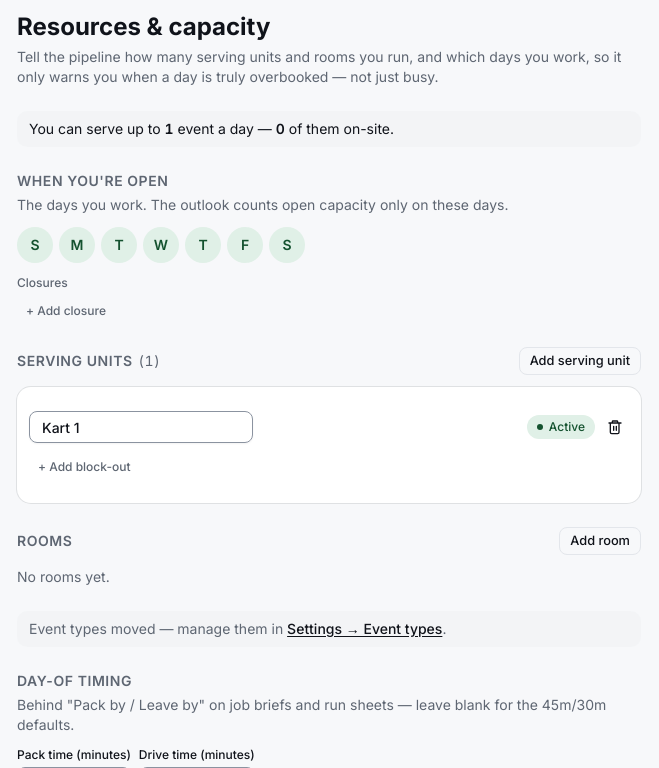
CapacityUnitsClient › creates a serving unit through createCapacityUnit
This screenshot has width=659, height=768.
Click the button "Add serving unit" at x=580, y=361, box [519,347,641,375]
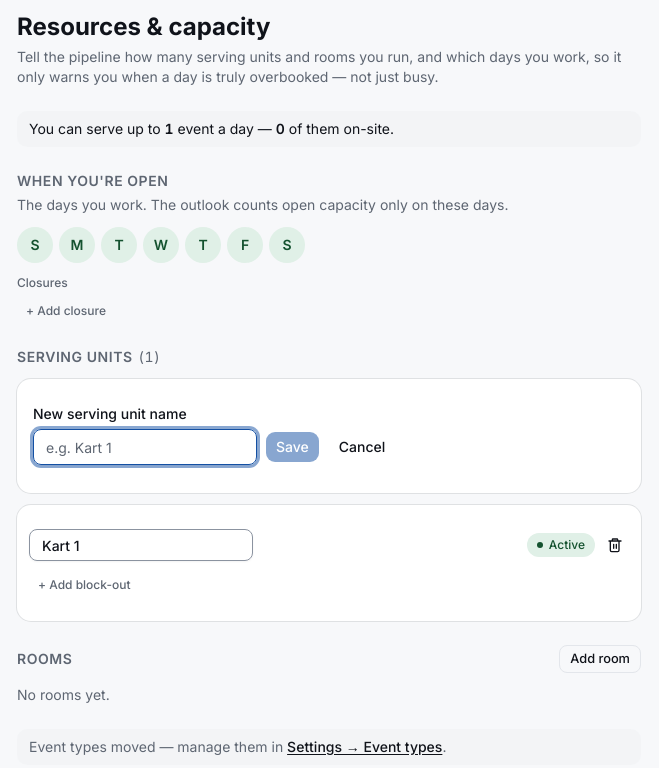
Type "Kart 9" into the field labelled "New serving unit name" at x=145, y=447, box [33,429,257,465]
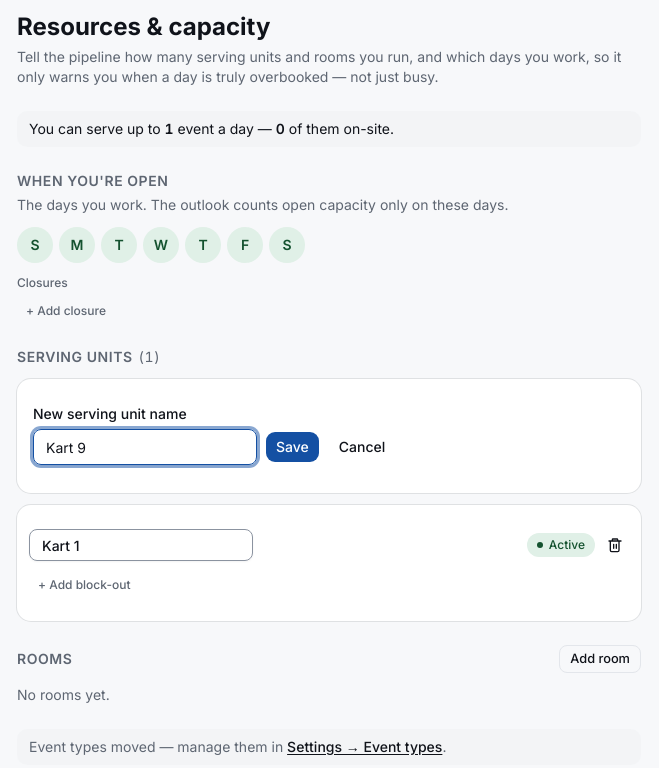
Click the button "Save" at x=292, y=447, box [265,431,320,463]
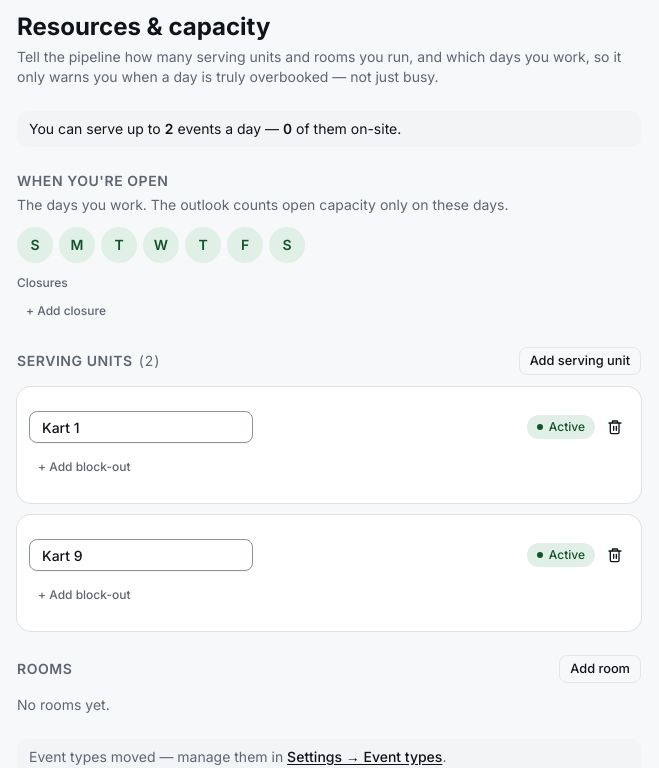
Expected: the field showing "Kart 9" is shown, [29,539,253,571]
